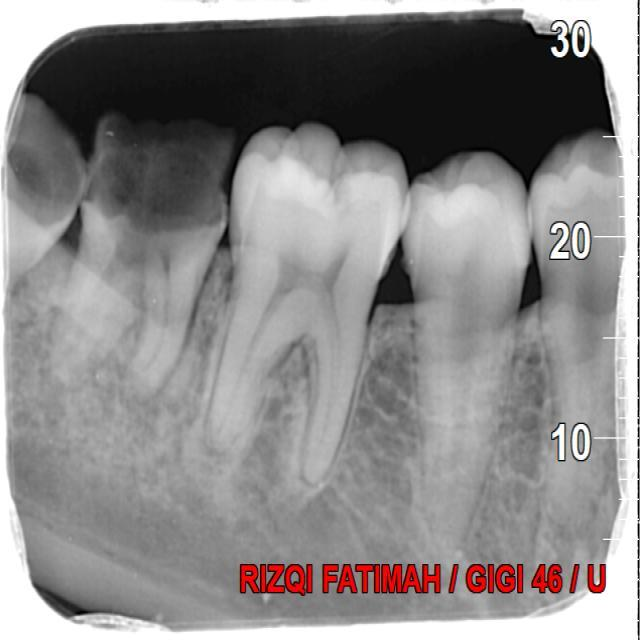individual-tooth-8tto: (196, 125, 406, 469), (396, 149, 536, 540), (49, 113, 235, 394)
